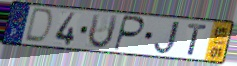4: (53, 11, 77, 47)
D: (22, 6, 55, 45)
J: (152, 19, 182, 55)
P: (112, 14, 146, 53)
T: (186, 23, 209, 57)
U: (87, 12, 120, 50)
